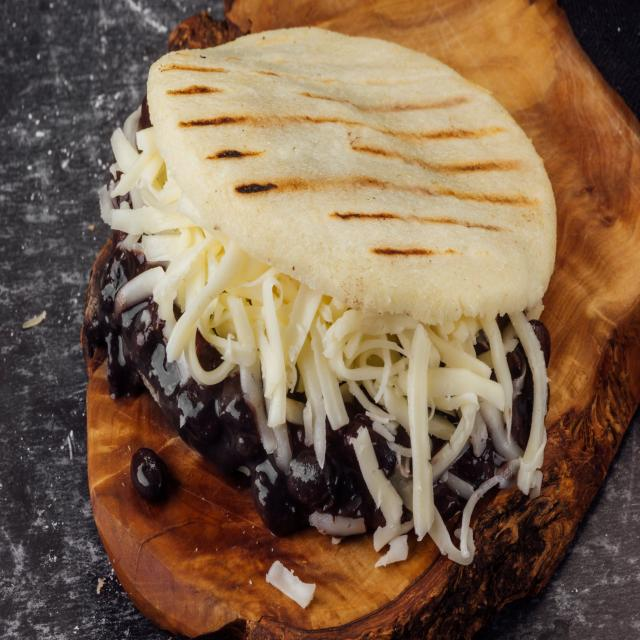arepa: (146, 17, 573, 330)
